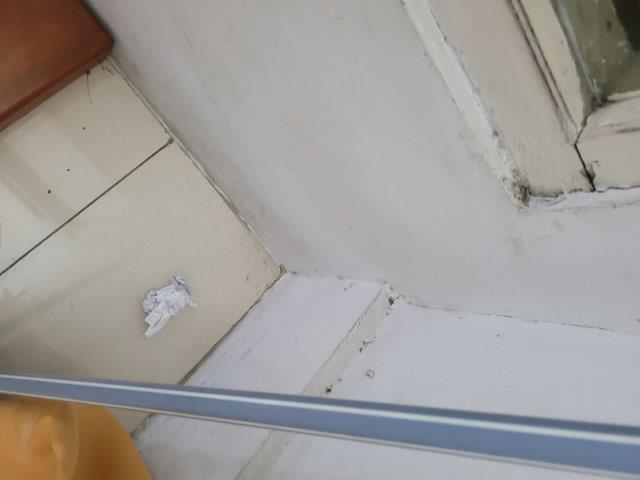kertas: (142, 276, 196, 333)
